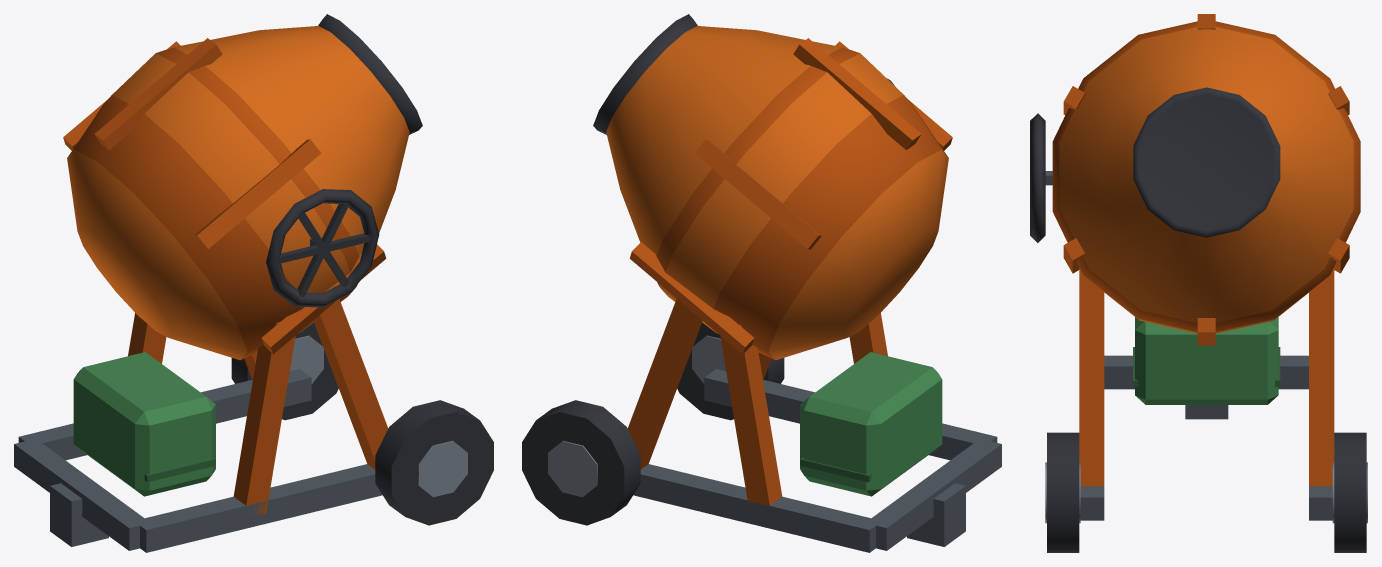
File: site-prop1.glb
3 renders of one model, left to right at view 1: azimuth 30°, elevation 25°; view 2: azimuth 150°, elevation 25°; view 3: azimuth 270°, elevation 25°, orthographic.
Parts seen in each view (by area): view 1: site-prop1; view 2: site-prop1; view 3: site-prop1.
Part boxes in pixels (x1,y1,x2,y2): site-prop1: (14,14,493,552); site-prop1: (522,14,1001,552); site-prop1: (1030,14,1367,552).
Bounding box in the file's own units: 1.13 × 1.42 × 0.941.
